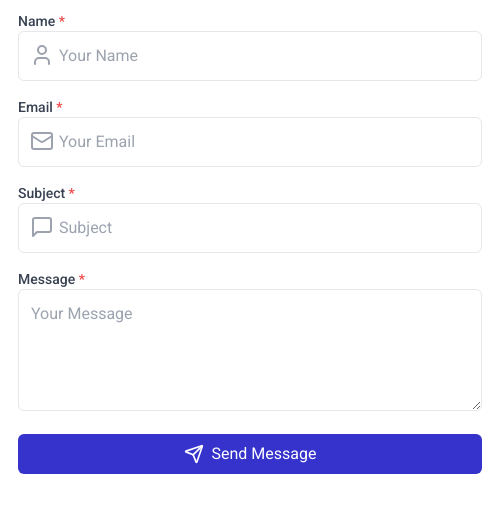
Scenario: EmailForm Component › validates message length
Type "Chris" into the field labelled "Name *" at (250, 56), box [18, 31, 482, 81]
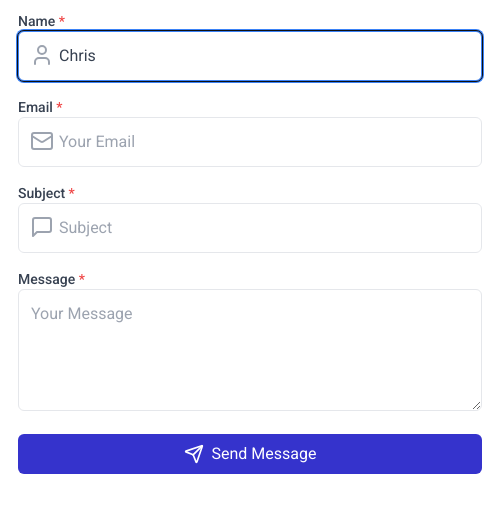
Type "chris@example.com" into the field labelled "Email *" at (250, 142), box [18, 117, 482, 167]
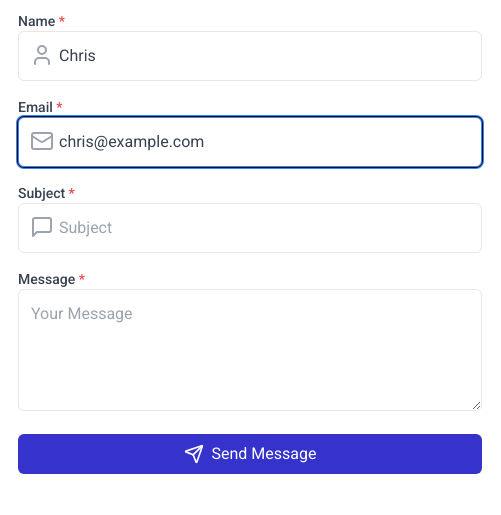
Type "Test" into the field labelled "Subject *" at (250, 228), box [18, 203, 482, 253]
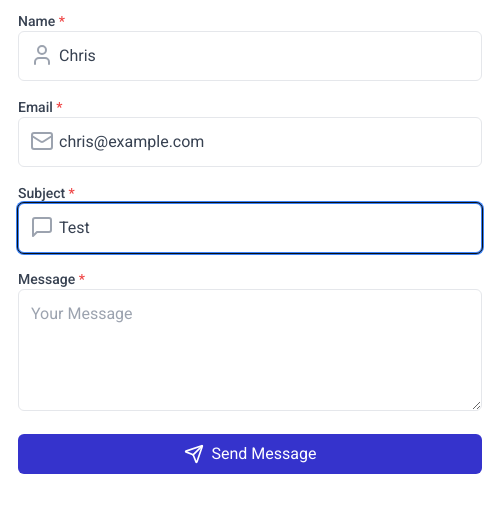
Type "Too short" into the text box labelled "Message *" at (250, 350), box [18, 289, 482, 411]
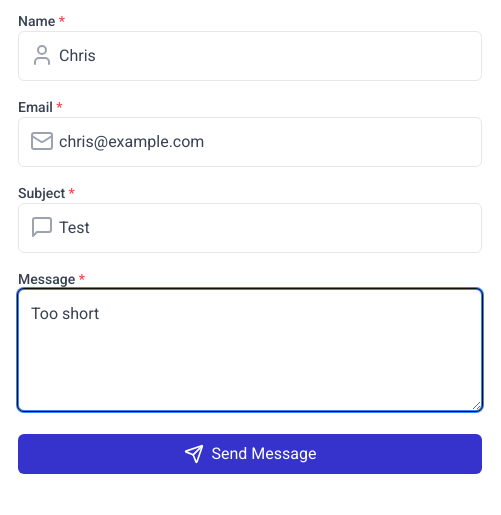
Click the button "Send Message" at (250, 454), box [18, 434, 482, 474]
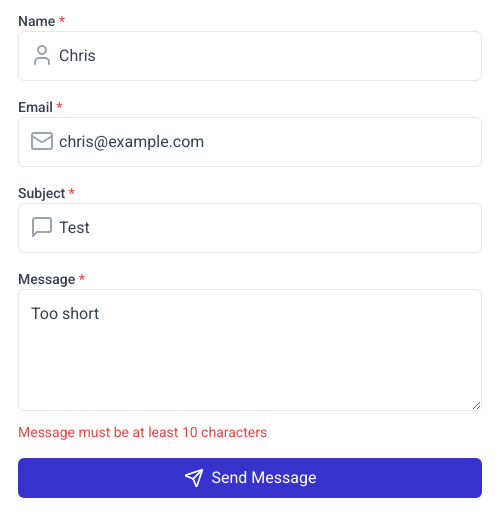
Now the text "Message must be at least 10 characters" is shown, box [18, 424, 267, 440]
